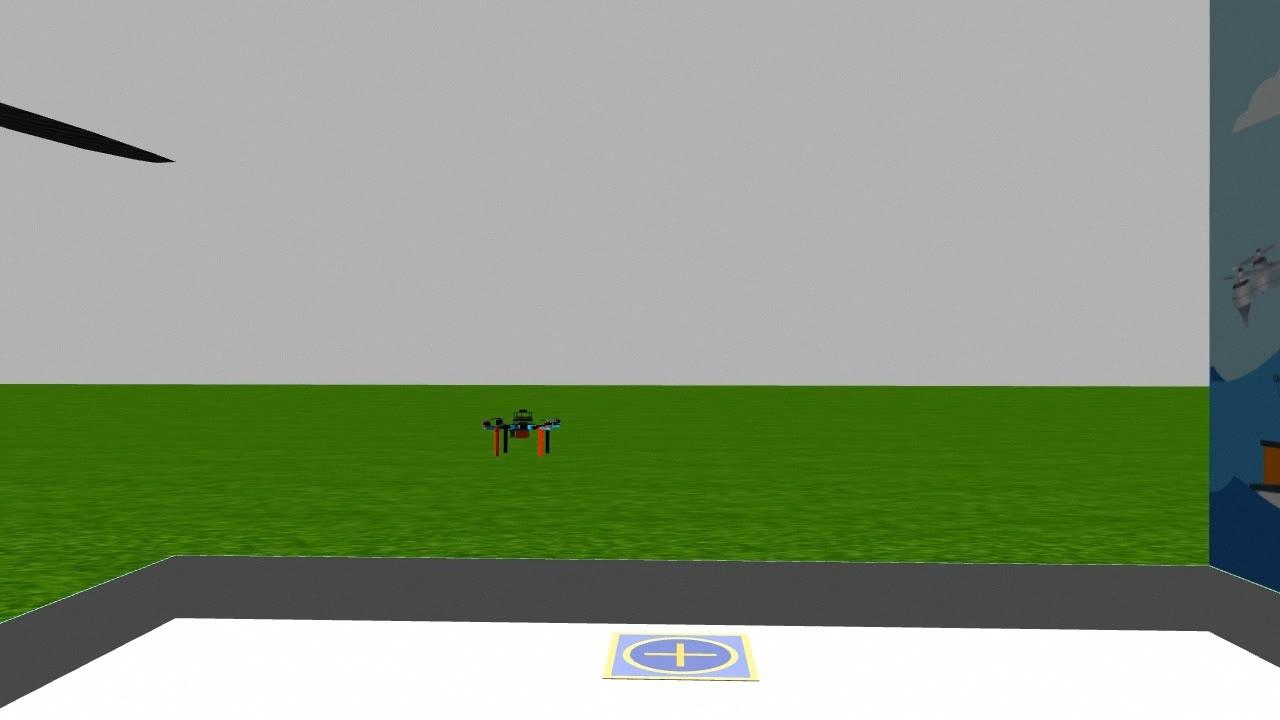UAV: (476, 404, 566, 463)
